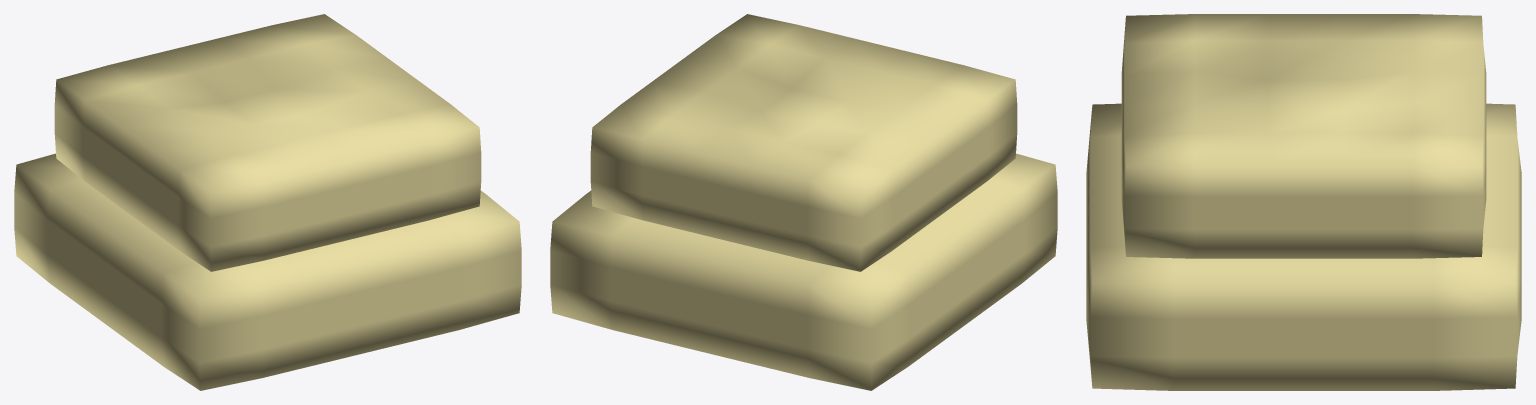
Rendered from alloy_platinum_iridium_web.glb.
3 views of the same model, side by side, from view 1: azimuth 30°, elevation 25°; view 2: azimuth 150°, elevation 25°; view 3: azimuth 270°, elevation 25° (orthographic). The views are drawn at different scales.
Parts seen in each view (by area): view 1: alloy_platinum_iridium; view 2: alloy_platinum_iridium; view 3: alloy_platinum_iridium.
Part boxes in pixels (<box>): alloy_platinum_iridium: <box>14,14,521,390</box>; alloy_platinum_iridium: <box>550,14,1057,390</box>; alloy_platinum_iridium: <box>1086,14,1521,390</box>.
Bounding box in the file's own units: 1 × 0.5515 × 1.
